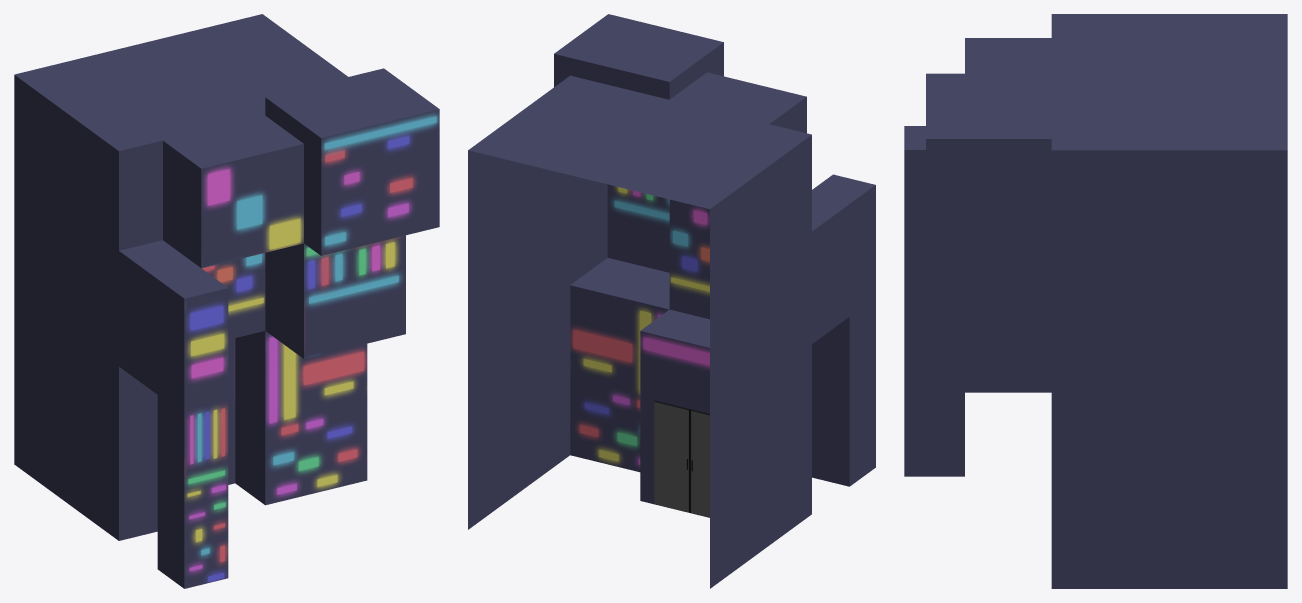
Rendered from building2.fbx.
The picture shows the model from 3 angles, left to right: view 1: azimuth 30°, elevation 25°; view 2: azimuth 150°, elevation 25°; view 3: azimuth 270°, elevation 25°; orthographic projection. The views are drawn at different scales.
Parts seen in each view (by area): view 1: building2; view 2: building2; view 3: building2.
Part boxes in pixels (x1,y1,x2,y2): building2: (14, 14, 439, 588); building2: (468, 14, 875, 588); building2: (904, 14, 1287, 588).
Bounding box in the file's own units: 4.27 × 6.28 × 4.75.
